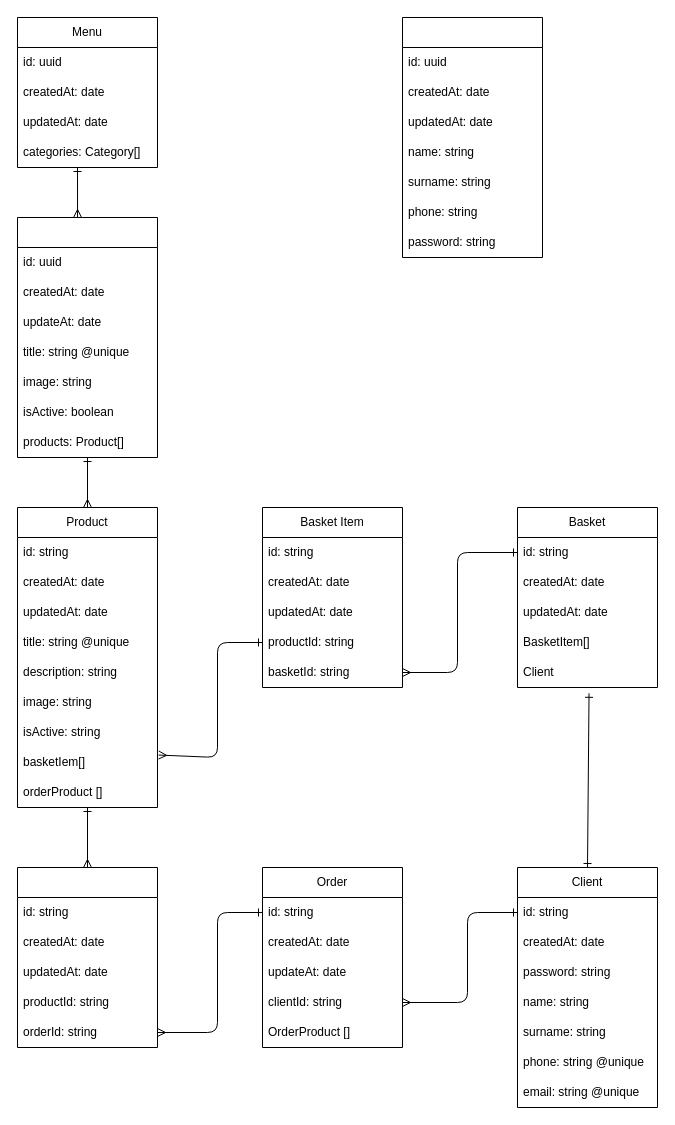
This 675x1125 diagram has some shape labels left out. Here are the shapes that lost their labels. From the top down, the box of each, then its label:
(402, 16, 542, 258): Administrator
(16, 216, 158, 458): Category
(16, 866, 158, 1048): Order Product
